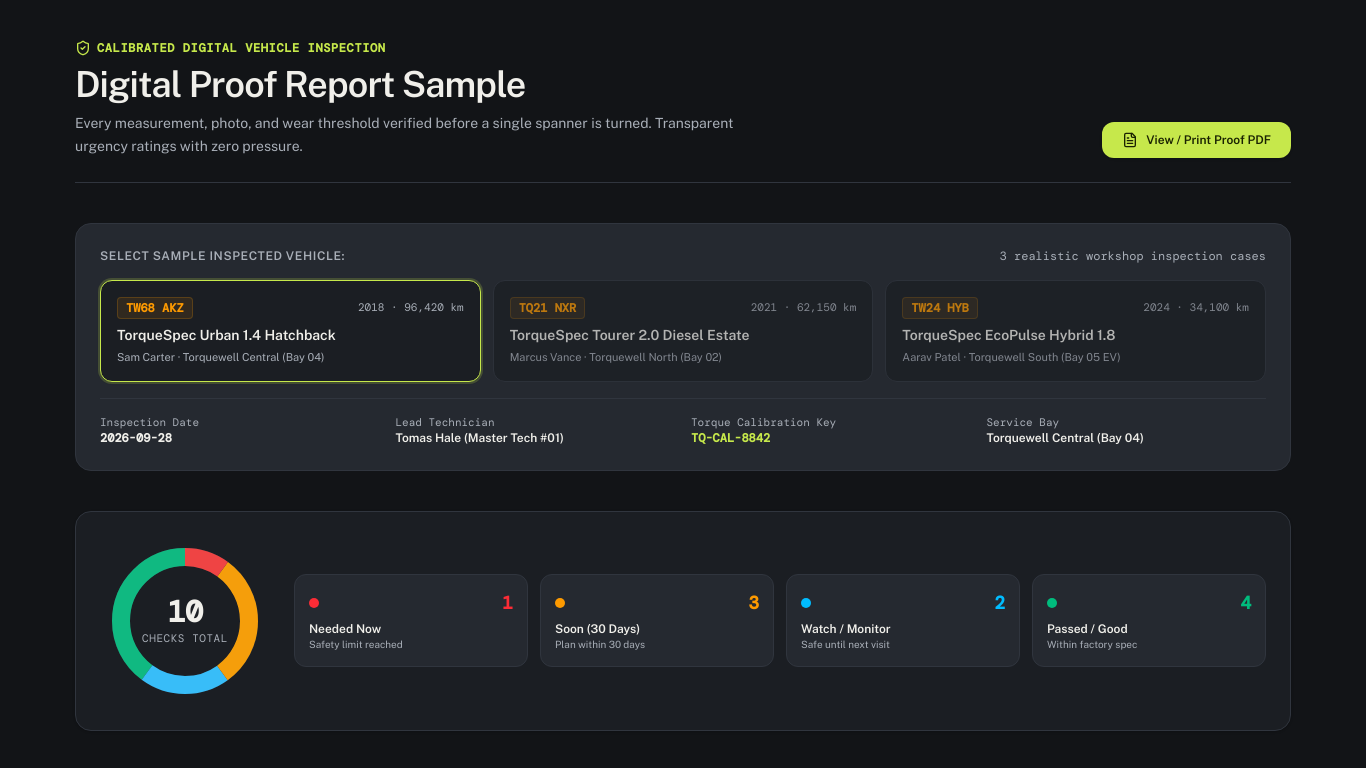
Test: Digital Proof Report (Feature 03) › opens the printable Proof Report PDF preview modal
This screenshot has width=1366, height=768.
Click the button "View / Print Proof PDF". click: (1197, 140)
box: [1102, 122, 1291, 158]
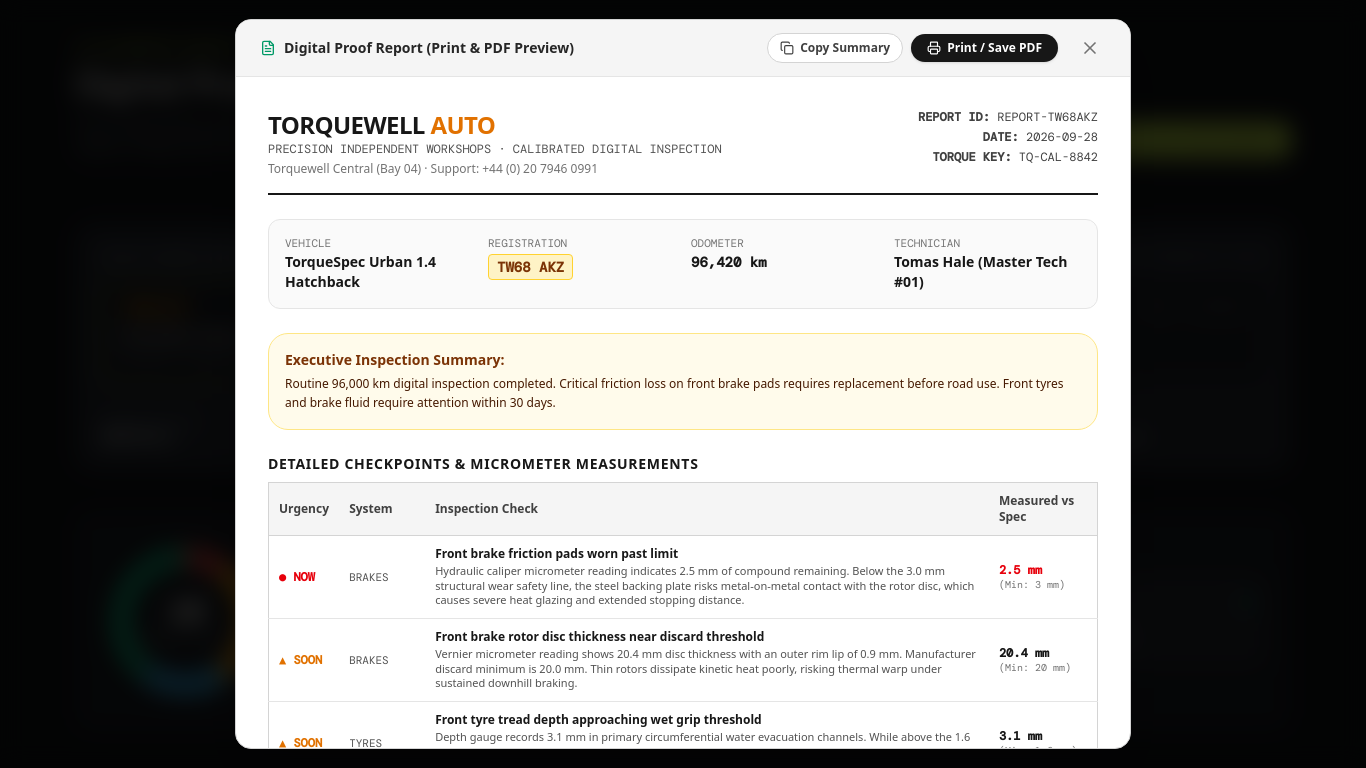
Now the dialog is shown
Now the heading "Detailed Checkpoints & Micrometer Measurements" is shown, box [268, 454, 699, 473]
